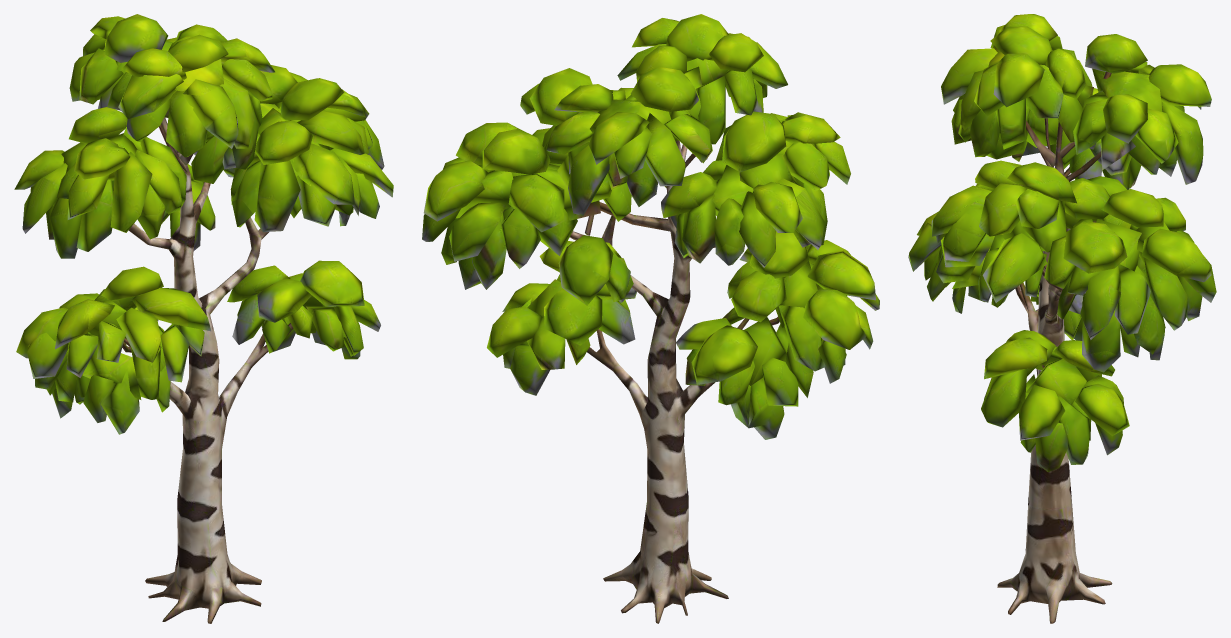
Rendered from tree-birch.glb.
The picture shows the model from 3 angles, left to right: view 1: azimuth 30°, elevation 25°; view 2: azimuth 150°, elevation 25°; view 3: azimuth 270°, elevation 25°; orthographic projection. The views are drawn at different scales.
Parts seen in each view (by area): view 1: tree-birch; view 2: tree-birch; view 3: tree-birch.
Boxes of the visible parts, x1=… form: tree-birch: x1=14, y1=14, x2=393, y2=623; tree-birch: x1=422, y1=14, x2=879, y2=623; tree-birch: x1=908, y1=14, x2=1216, y2=623.
Bounding box in the file's own units: 5.32 × 7.45 × 3.73.
1 material, 1 textured.
